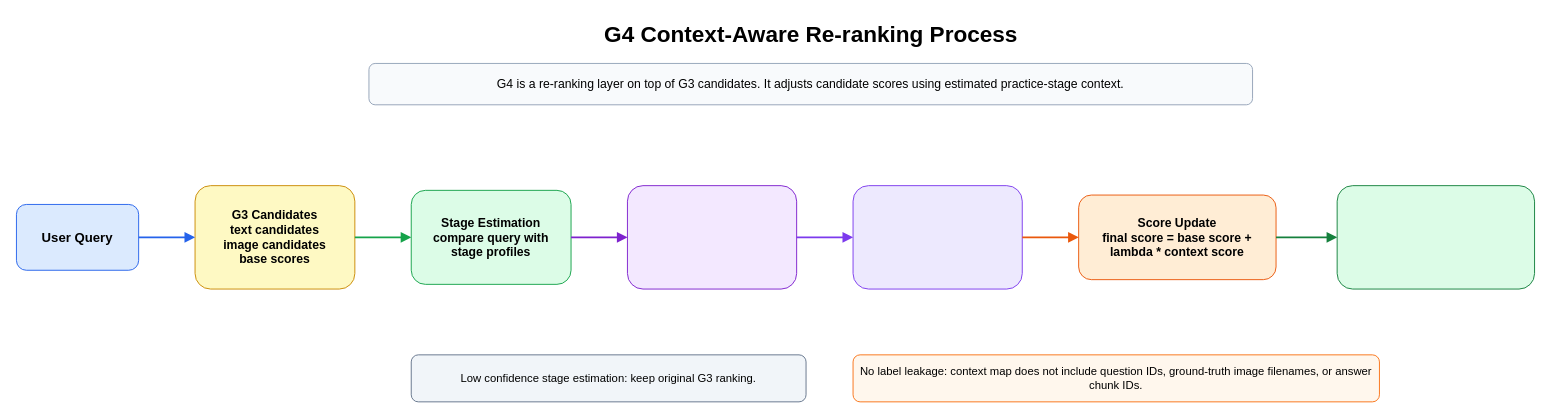
Image size: 1551x418. Some labels were removed from this diagram. The shapes that lost their labels are listed below. From the top down, each one's box as (x1, y1, x2, y2) in pixels, then its label:
(627, 185, 797, 289): Stage Context Map page range section heading keywords
(852, 185, 1022, 289): Context Score page match section match keyword match
(1336, 185, 1535, 289): Re-ranked Top-k Evidence text evidence image evidence
